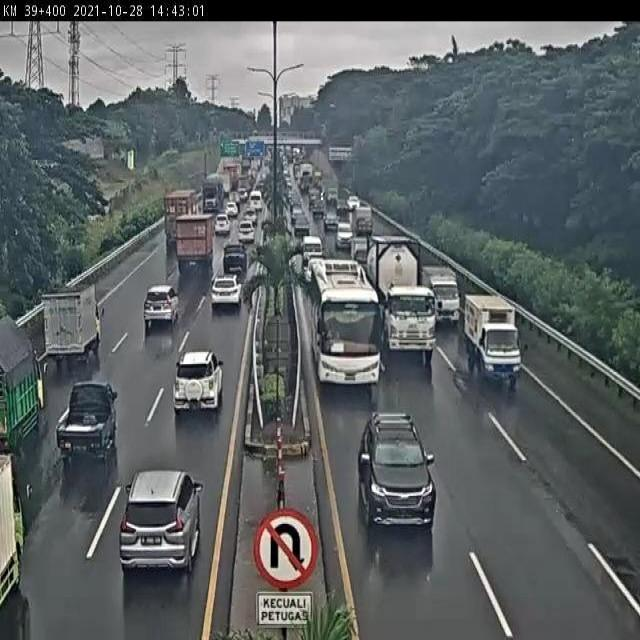big bus: (309, 259, 382, 392)
big truck: (365, 234, 444, 362), (178, 210, 218, 270), (167, 185, 201, 248)
car: (359, 412, 439, 536), (120, 472, 202, 577), (173, 350, 221, 414), (143, 286, 180, 331), (210, 273, 241, 308), (302, 234, 325, 270), (306, 253, 329, 287), (222, 241, 245, 272), (338, 223, 356, 253), (294, 215, 310, 237), (215, 215, 230, 237), (239, 222, 255, 242)
small truck: (462, 295, 527, 388), (41, 283, 105, 368), (58, 382, 119, 466), (420, 262, 459, 330)
